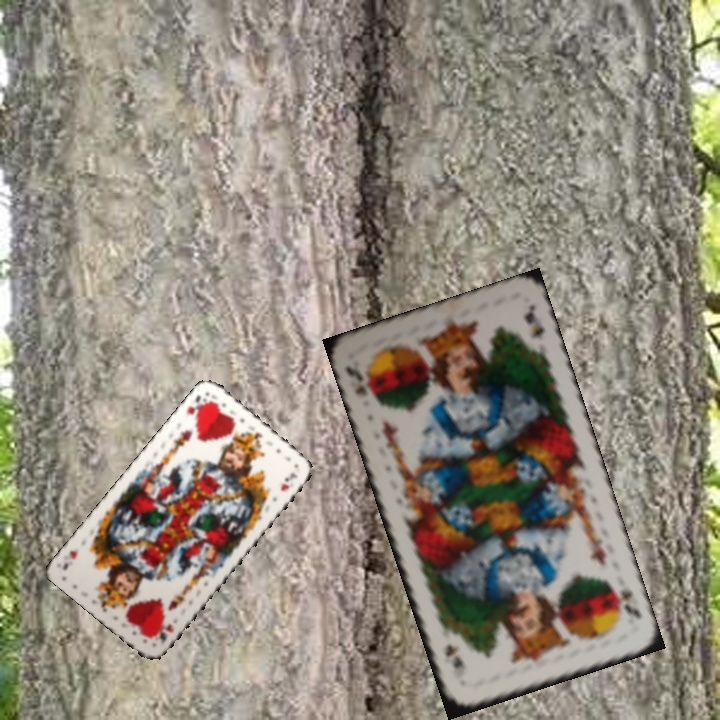HK: (182, 391, 213, 421), (150, 619, 176, 646)
SK: (606, 577, 645, 622), (341, 362, 378, 404)
